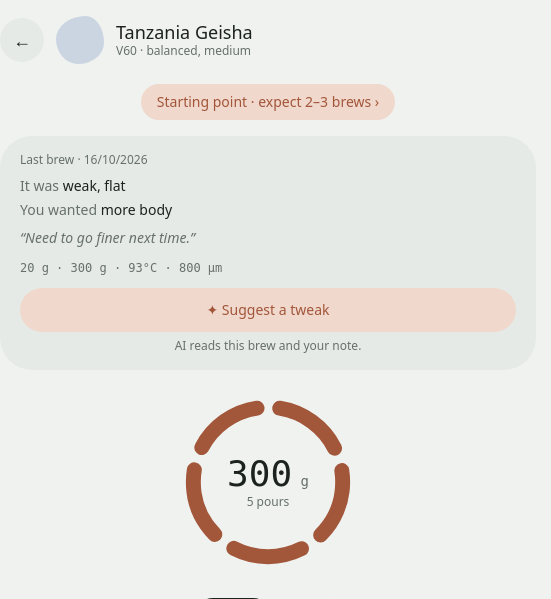
it: Suggest a tweak › says when the day’s suggestions are used up
Click the button "✦ Suggest a tweak". click: click(268, 310)
box: [20,288,516,332]
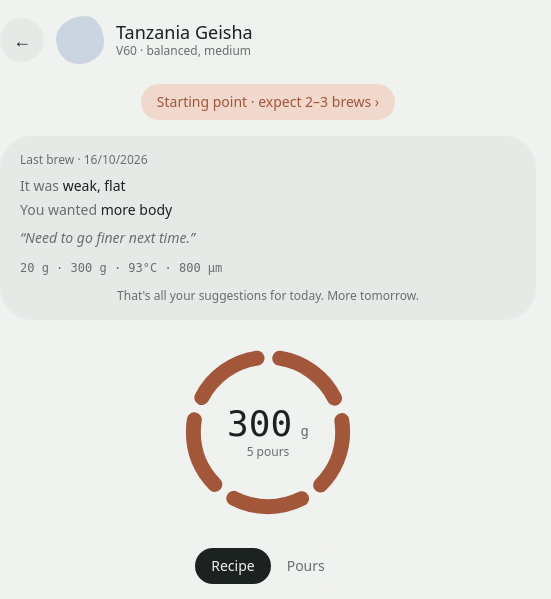
Result: the text "That's all your suggestions for today. More tomorrow." is shown at [117,287,419,304]
